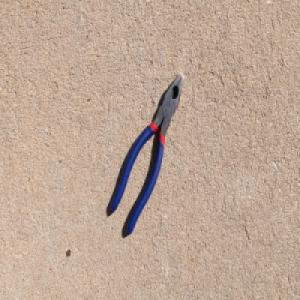Pliers: (109, 70, 184, 237)
